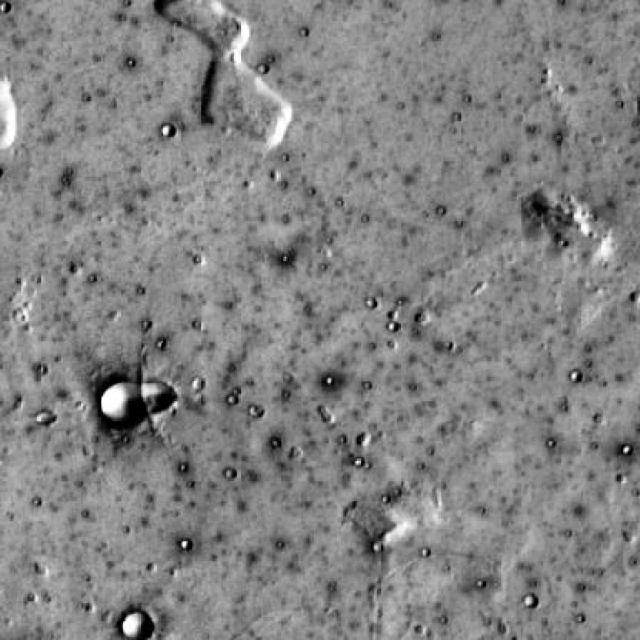crater: (87, 379, 139, 426), (136, 378, 172, 412), (124, 610, 156, 638), (36, 408, 55, 424)
